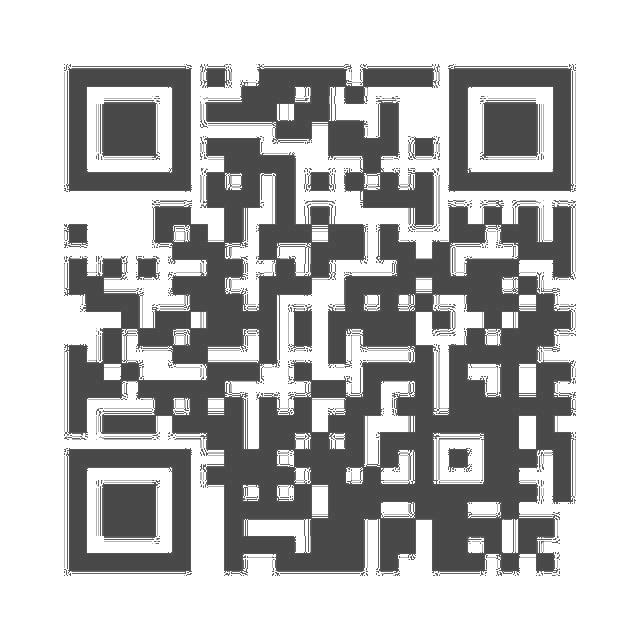qr_code: (51, 54, 583, 586)
